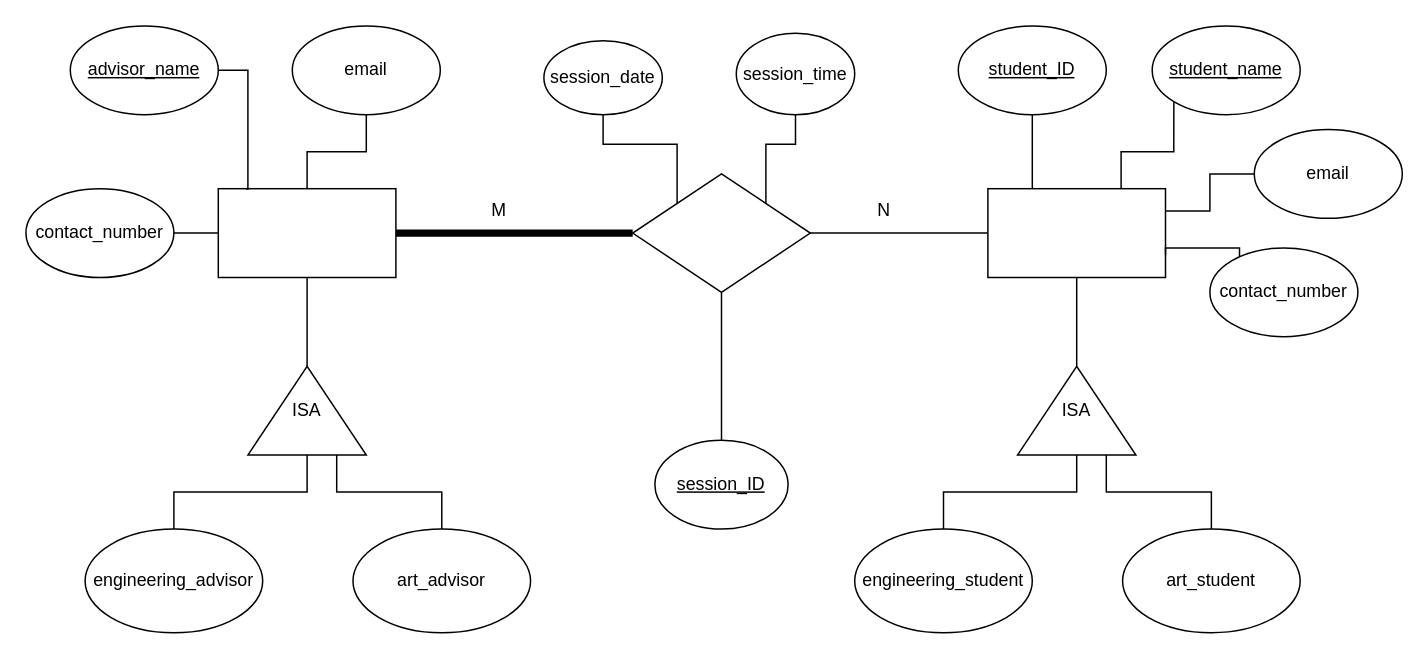
This 1428x659 diagram has some shape labels left out. The box of each missing label's shape, as (x1, y1, x2, y2) in pixels:
Advising Session: (631, 172, 810, 292)
Advisor: (217, 187, 396, 278)
Student: (986, 187, 1166, 278)
